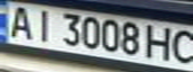0: (78, 15, 103, 51), (100, 17, 121, 53)
3: (54, 11, 84, 47)
8: (118, 19, 145, 56)
A: (3, 2, 36, 39)
C: (166, 28, 193, 65)
H: (142, 24, 175, 61)
I: (27, 7, 57, 43)
